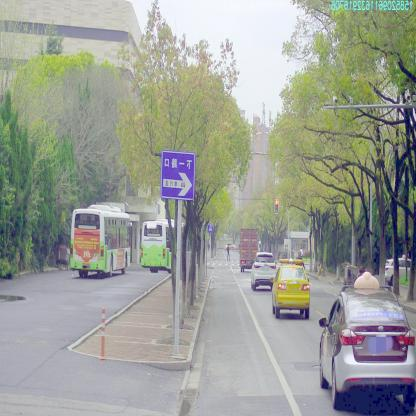traffic-light: (275, 199, 279, 213)
